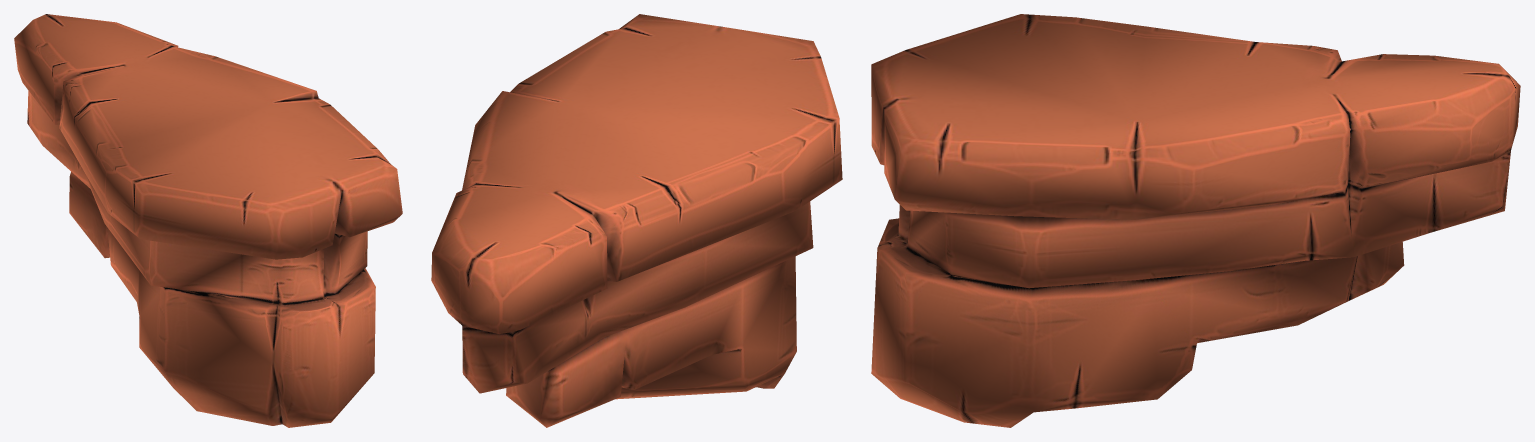
File: rocks_4.glb
3 renders of one model, left to right at view 1: azimuth 30°, elevation 25°; view 2: azimuth 150°, elevation 25°; view 3: azimuth 270°, elevation 25°, orthographic. The views are drawn at different scales.
Visible parts, largest first — view 1: Low_1; view 2: Low_1; view 3: Low_1.
Part boxes in pixels (x1,y1,x2,y2): Low_1: [14, 14, 402, 427]; Low_1: [431, 14, 842, 427]; Low_1: [871, 14, 1520, 427].
Size of the model in its own units: 1.65 by 1.65 by 3.23.
Materials: 1 (1 with a texture image).
